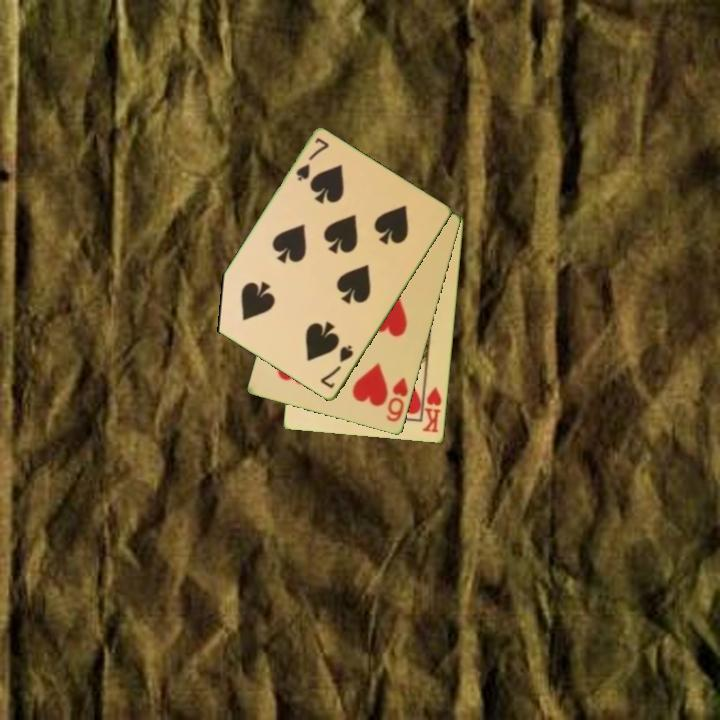6h: (383, 374, 411, 425)
7s: (317, 341, 356, 392), (293, 134, 332, 185)
Kh: (419, 380, 445, 436)
